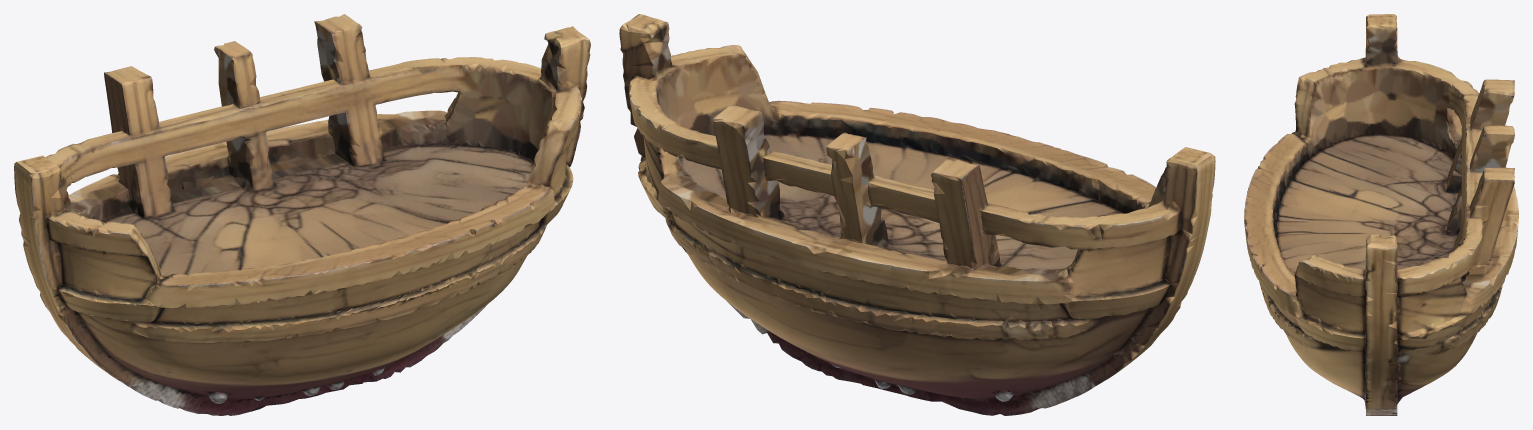
Rendered from Atlantis_Shipwreck.glb.
The picture shows the model from 3 angles, left to right: view 1: azimuth 30°, elevation 25°; view 2: azimuth 150°, elevation 25°; view 3: azimuth 270°, elevation 25°; orthographic projection. The views are drawn at different scales.
Visible parts, largest first — view 1: Atlantis_Shipwreck; view 2: Atlantis_Shipwreck; view 3: Atlantis_Shipwreck.
Boxes of the visible parts, left/top/right/bottom form: Atlantis_Shipwreck: left=14, top=14, right=590, bottom=415; Atlantis_Shipwreck: left=619, top=14, right=1215, bottom=415; Atlantis_Shipwreck: left=1244, top=14, right=1518, bottom=415.
Size of the model in its own units: 3.6 by 1.79 by 1.79.
1 material, 1 textured.
